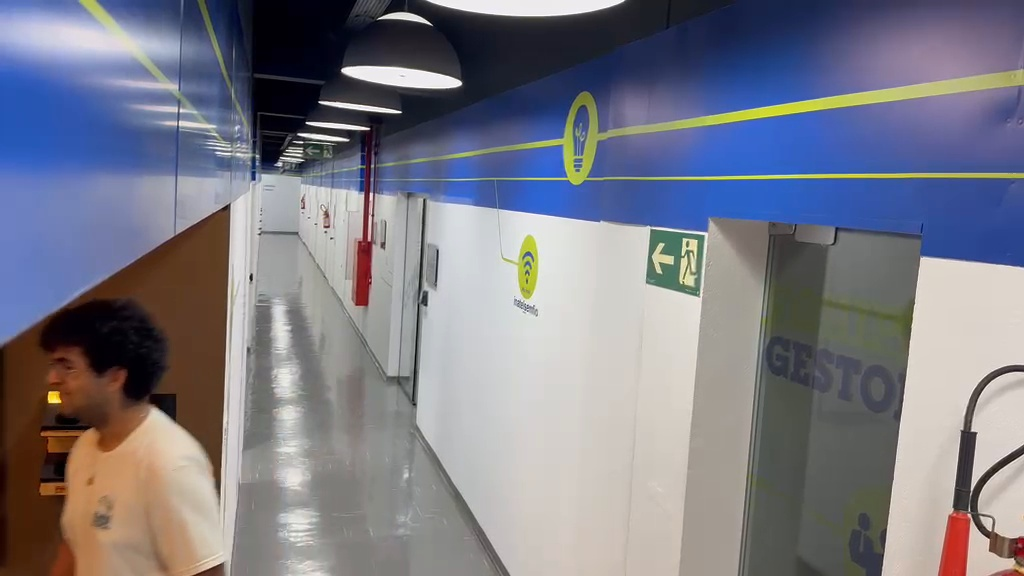person: (40, 296, 225, 572)
